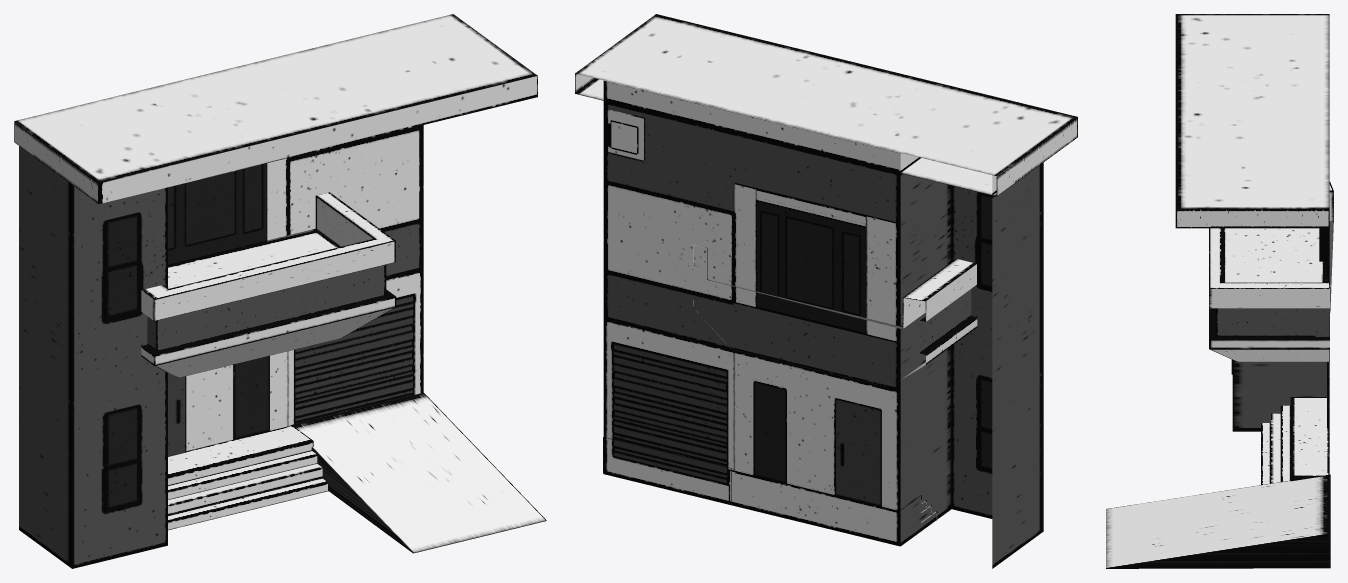
Rendered from building3.obj.
3 views of the same model, side by side, from view 1: azimuth 30°, elevation 25°; view 2: azimuth 150°, elevation 25°; view 3: azimuth 270°, elevation 25° (orthographic). The views are drawn at different scales.
Parts seen in each view (by area): view 1: Plane; view 2: Plane; view 3: Plane.
Boxes of the visible parts, x1,y1,x2,y2 form: Plane: (14,14,546,568); Plane: (575,14,1077,568); Plane: (1106,14,1333,568).
Size of the model in its own units: 4.77 by 4.25 by 2.35.
